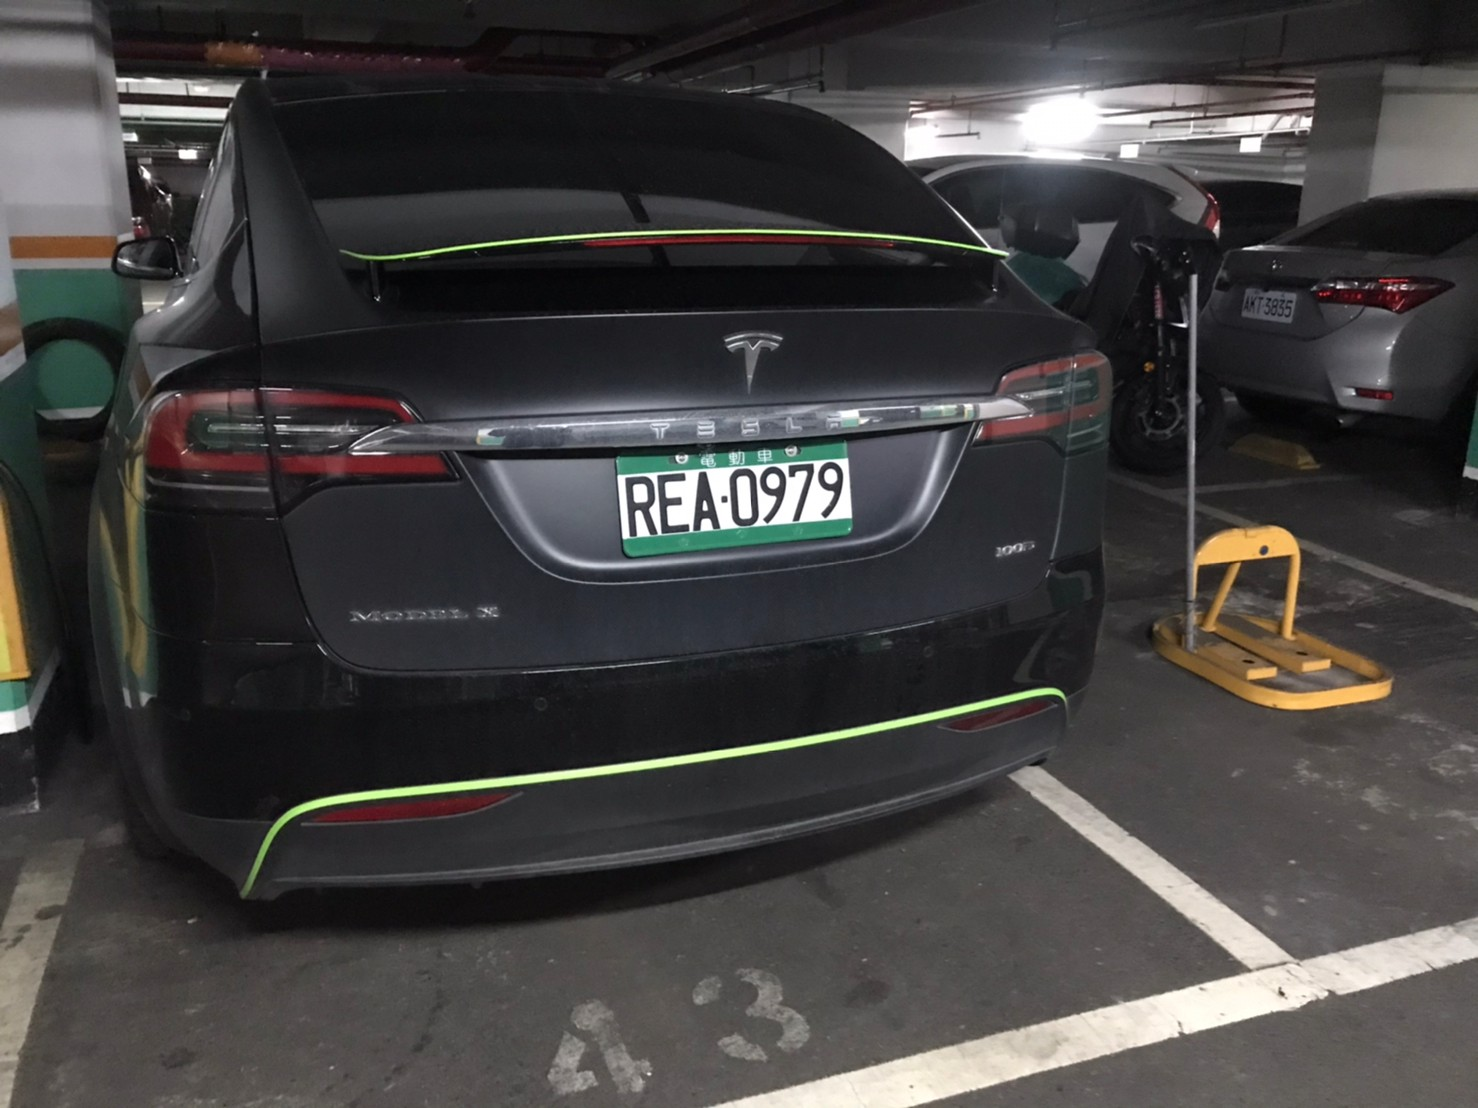LP: (617, 443, 854, 556)
